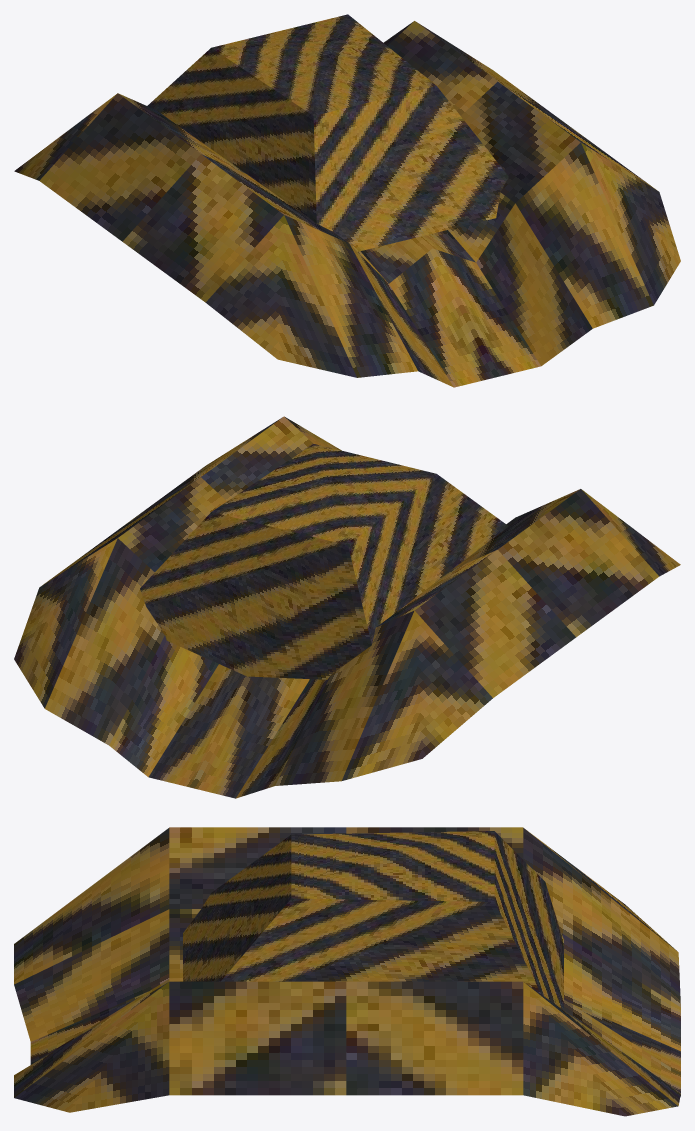
File: tank_body.gltf
3 views of the same model, one above another, from view 1: azimuth 30°, elevation 25°; view 2: azimuth 150°, elevation 25°; view 3: azimuth 270°, elevation 25° (orthographic). The views are drawn at different scales.
Parts seen in each view (by area): view 1: Mesh_0, Mesh_1; view 2: Mesh_0, Mesh_1; view 3: Mesh_0, Mesh_1.
Boxes of the visible parts, x1,y1,x2,y2 form: Mesh_0: [14, 21, 680, 387]; Mesh_1: [147, 14, 508, 251]; Mesh_0: [14, 416, 680, 798]; Mesh_1: [140, 444, 508, 679]; Mesh_0: [14, 827, 680, 1116]; Mesh_1: [183, 831, 563, 1009].
Bounding box in the file's own units: 1.05 × 0.4592 × 1.25.
Materials: 1 (1 with a texture image).
